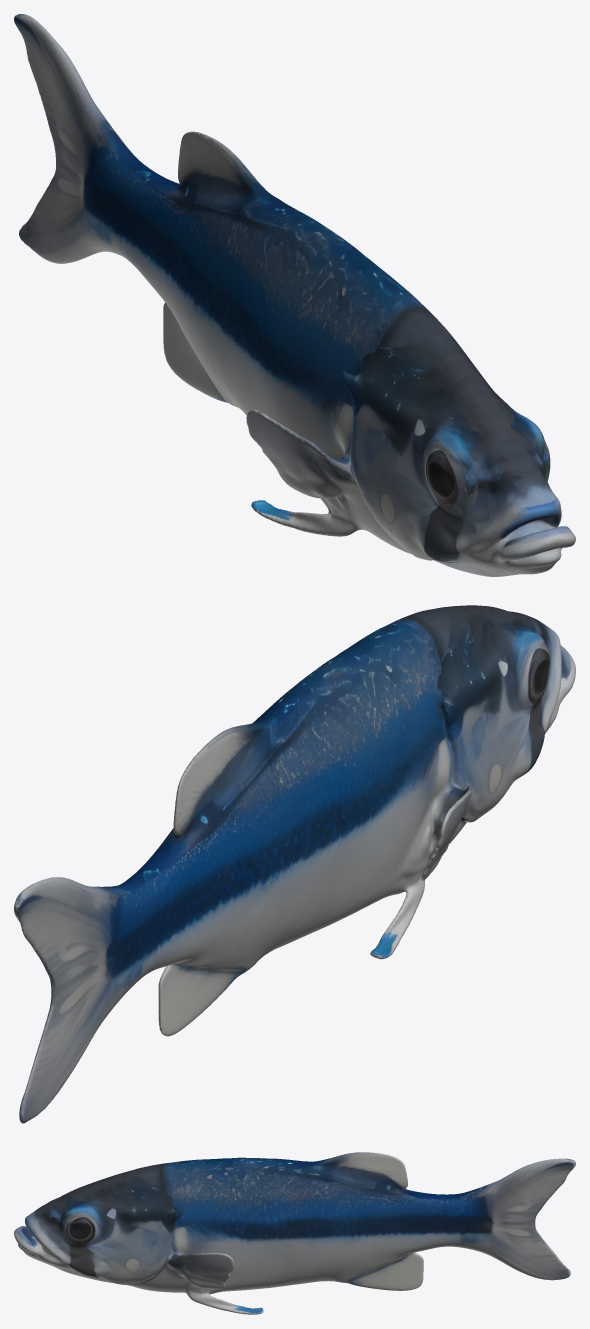
Rendered from trop_wrasse.glb.
3 renders of one model, top to bottom at view 1: azimuth 30°, elevation 25°; view 2: azimuth 150°, elevation 25°; view 3: azimuth 270°, elevation 25°, orthographic. The views are drawn at different scales.
Parts seen in each view (by area): view 1: tripo_node_7c3b0566-020a-40bf-a27a-771338996d58; view 2: tripo_node_7c3b0566-020a-40bf-a27a-771338996d58; view 3: tripo_node_7c3b0566-020a-40bf-a27a-771338996d58.
Boxes of the visible parts, x1,y1,x2,y2 form: tripo_node_7c3b0566-020a-40bf-a27a-771338996d58: (14, 14, 575, 576); tripo_node_7c3b0566-020a-40bf-a27a-771338996d58: (14, 605, 575, 1123); tripo_node_7c3b0566-020a-40bf-a27a-771338996d58: (14, 1152, 575, 1314).
Size of the model in its own units: 0.2163 by 0.2884 by 1.
Materials: 1 (1 with a texture image).
